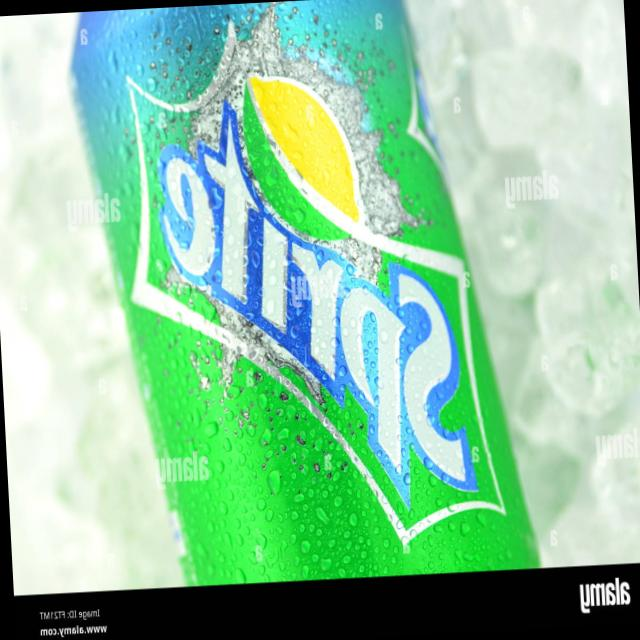sprite: (85, 0, 481, 576)
